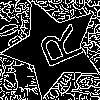R: (28, 23, 86, 74)
